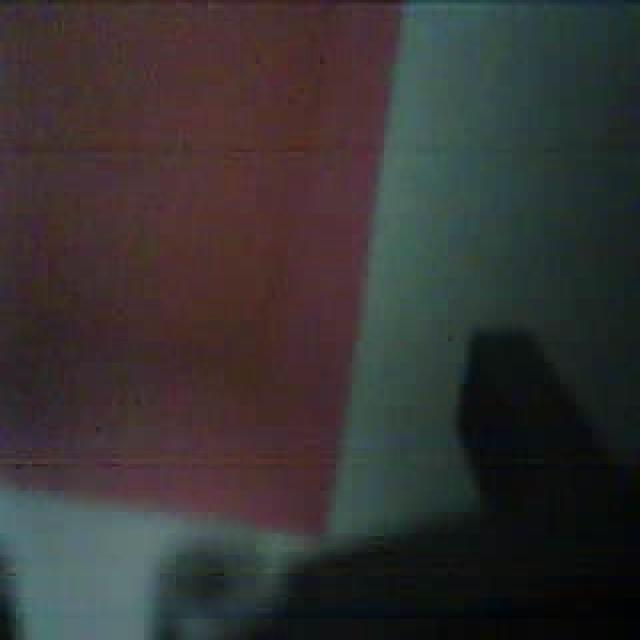red_box: (4, 2, 407, 546)
